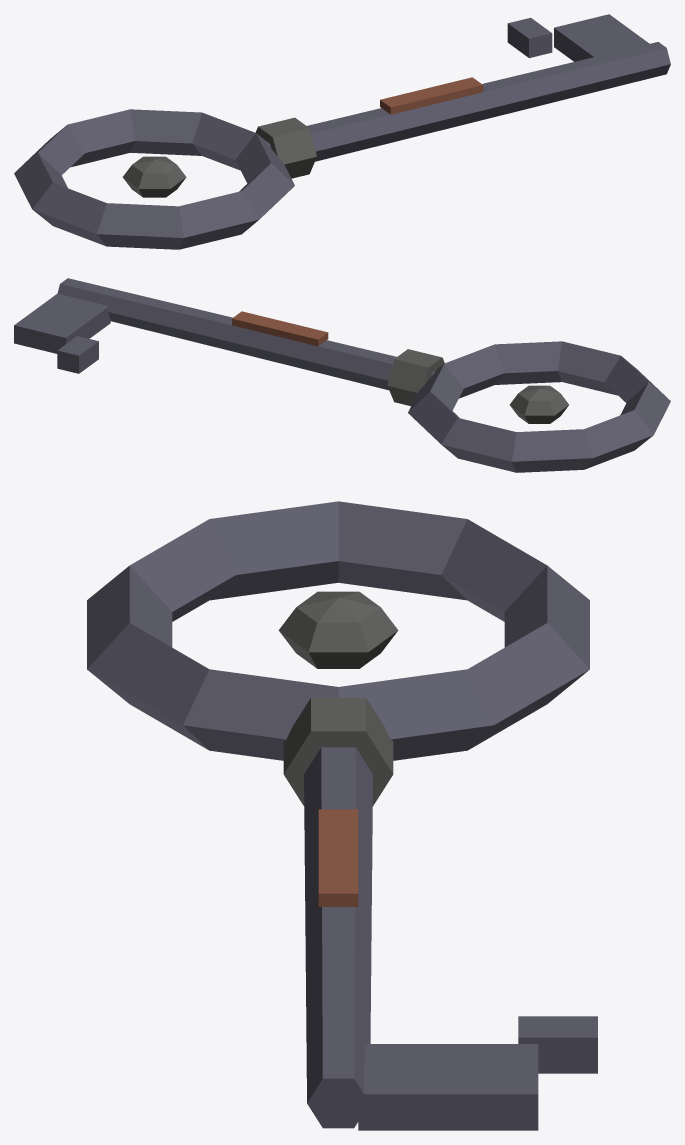
File: cheie_pivnita.glb
3 renders of one model, top to bottom at view 1: azimuth 30°, elevation 25°; view 2: azimuth 150°, elevation 25°; view 3: azimuth 270°, elevation 25°, orthographic. The views are drawn at different scales.
Visible parts, largest first — view 1: Cheie; view 2: Cheie; view 3: Cheie.
Boxes of the visible parts, bbox=[...] form: Cheie: bbox=[14, 14, 670, 249]; Cheie: bbox=[14, 278, 670, 472]; Cheie: bbox=[87, 501, 597, 1130].
Size of the model in its own units: 0.1365 by 0.00976 by 0.0512.
